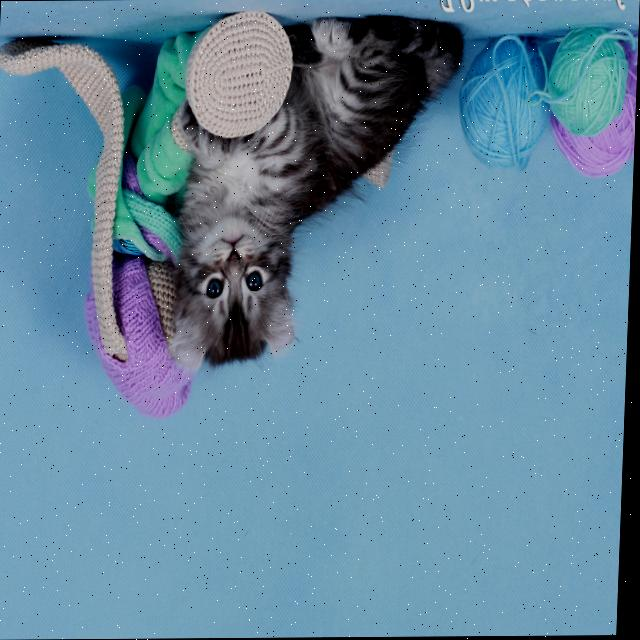American Curl: (164, 13, 464, 373)
